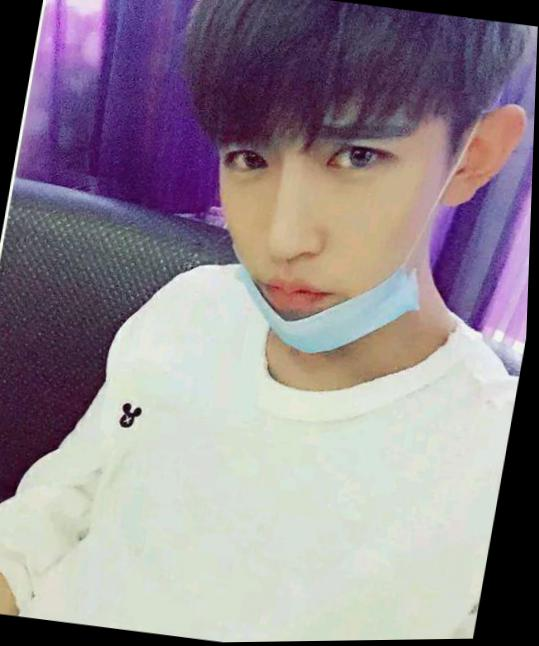WRONG: (192, 81, 445, 370)
